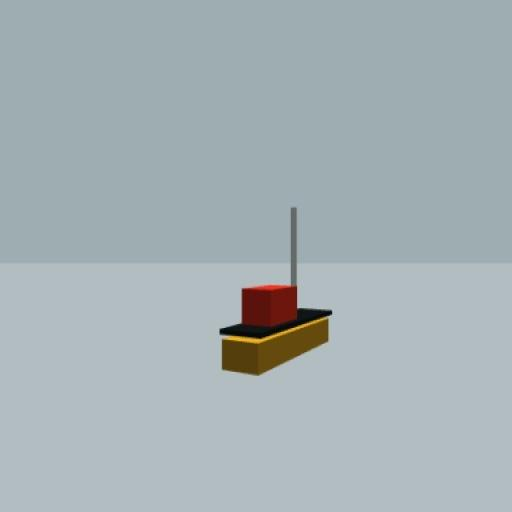vessel: (220, 200, 332, 378)
